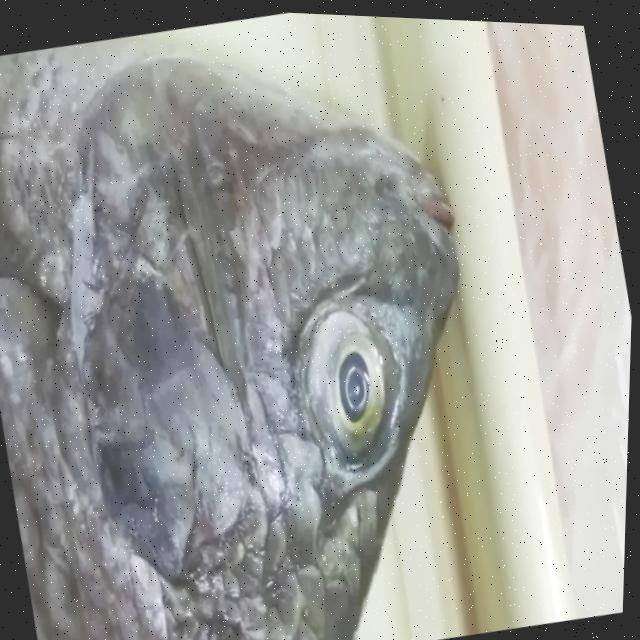Non-Fresh: (263, 255, 450, 502)
